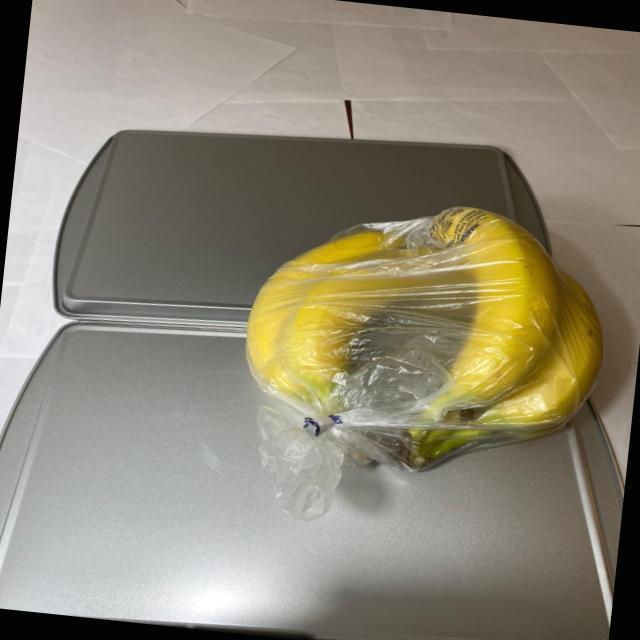banana: (229, 180, 619, 500)
